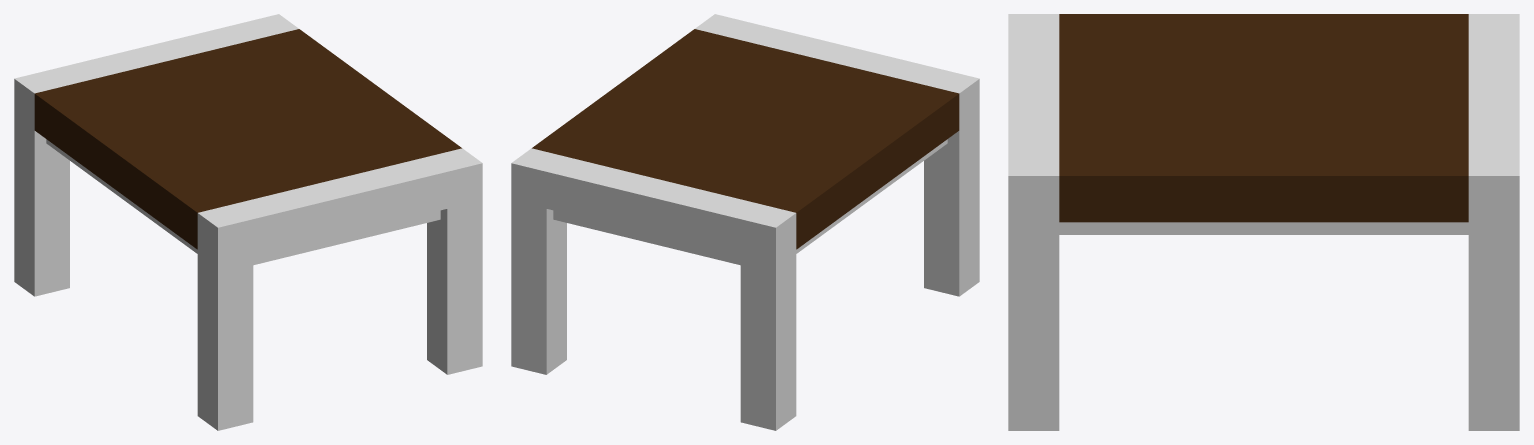
The model's file is mesa.fbx.
3 renders of one model, left to right at view 1: azimuth 30°, elevation 25°; view 2: azimuth 150°, elevation 25°; view 3: azimuth 270°, elevation 25°, orthographic. The views are drawn at different scales.
Visible parts, largest first — view 1: Cube; view 2: Cube; view 3: Cube.
Part boxes in pixels (x1,y1,x2,y2): Cube: (14, 14, 482, 430); Cube: (511, 14, 979, 430); Cube: (1008, 14, 1519, 430).
Bounding box in the file's own units: 150 × 110 × 200.
